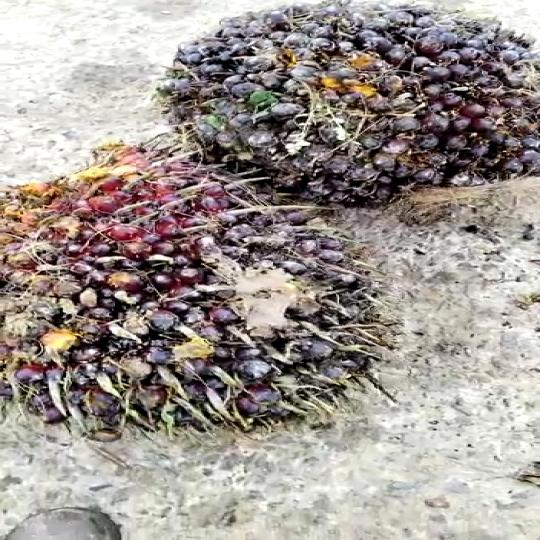kurang masak: (0, 154, 436, 446), (130, 0, 540, 212)
